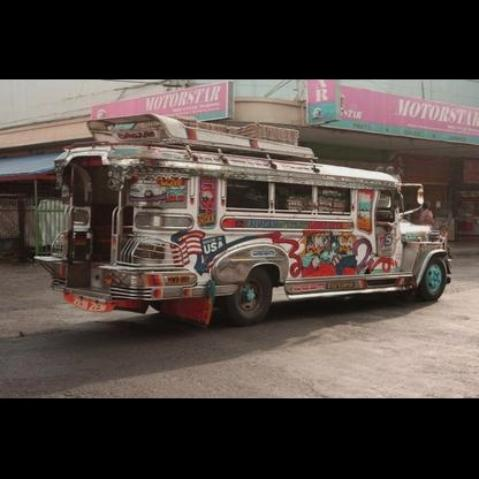jeepney: (35, 101, 456, 336)
